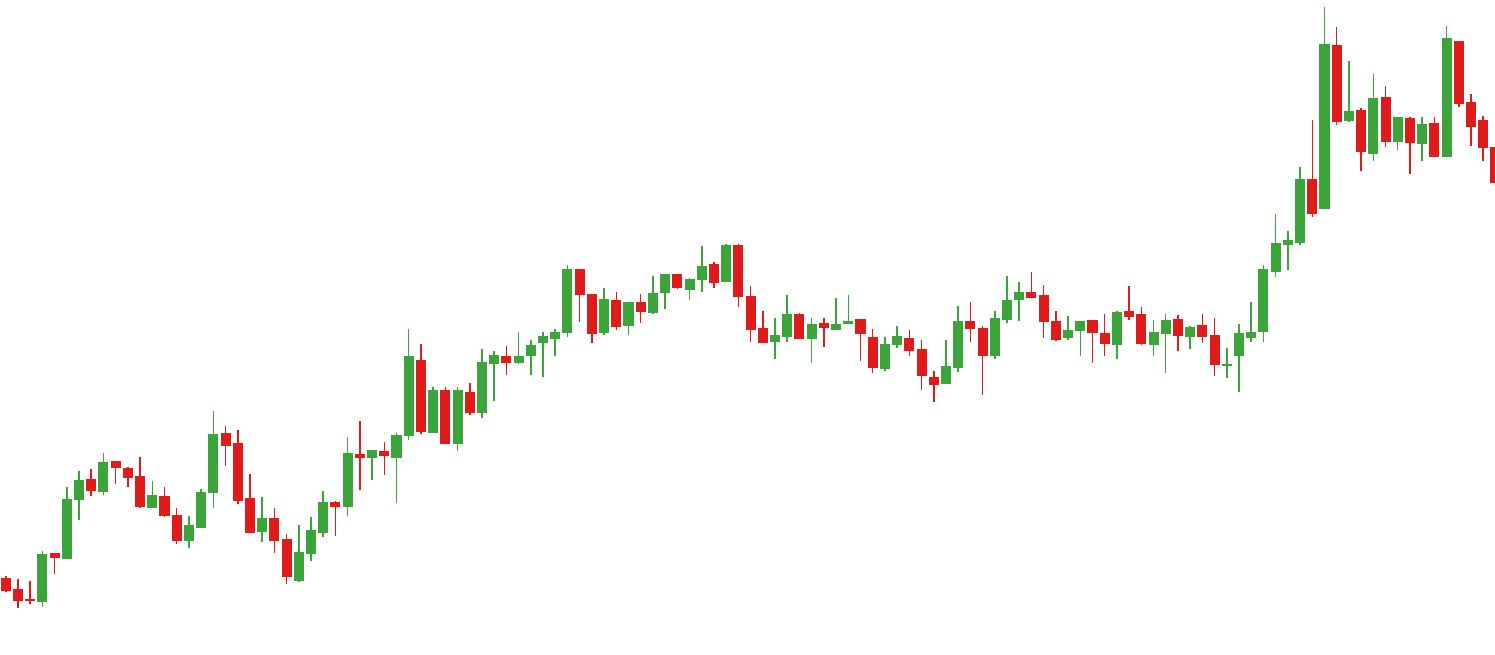buy: (1159, 324, 1246, 392)
sell: (1344, 28, 1467, 146)
